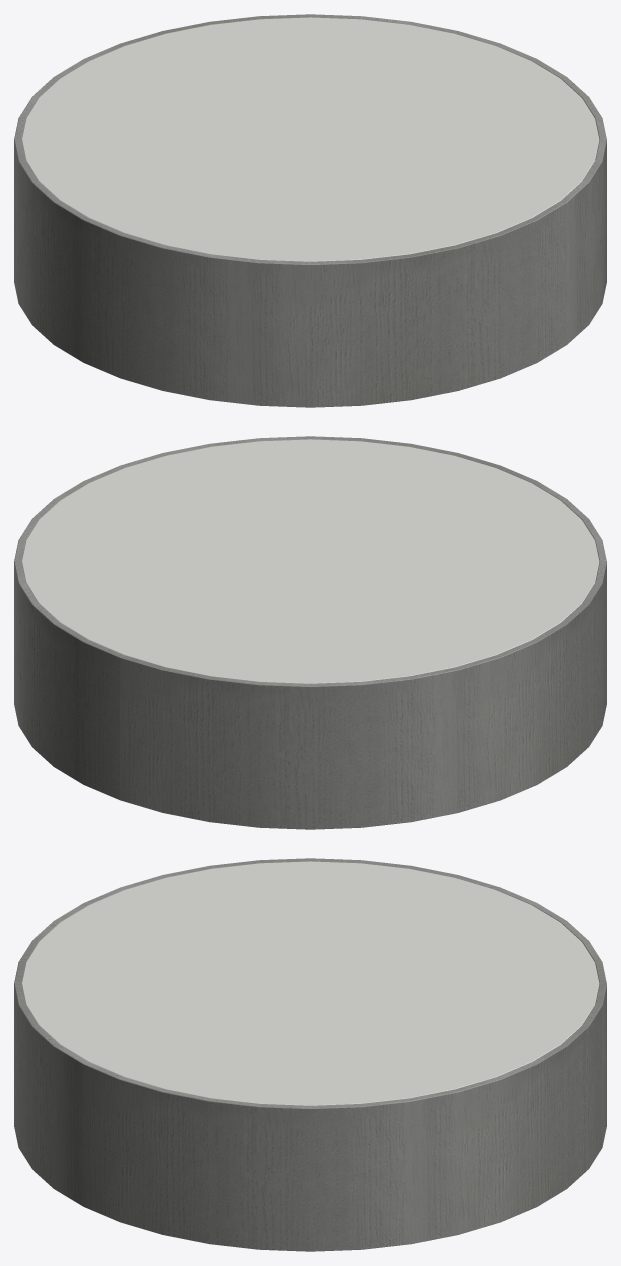
The model's file is coffee_table_bedroom.dae.
The picture shows the model from 3 angles, top to bottom: view 1: azimuth 30°, elevation 25°; view 2: azimuth 150°, elevation 25°; view 3: azimuth 270°, elevation 25°; orthographic projection.
Parts seen in each view (by area): view 1: Berkeley_Coffee_Table_Component_01, Berkeley_Coffee_Table_Component_02 (×2); view 2: Berkeley_Coffee_Table_Component_01, Berkeley_Coffee_Table_Component_02 (×2); view 3: Berkeley_Coffee_Table_Component_01, Berkeley_Coffee_Table_Component_02 (×2).
Boxes of the visible parts, x1,y1,x2,y2 form: Berkeley_Coffee_Table_Component_01: [21, 17, 599, 261]; Berkeley_Coffee_Table_Component_02 (×2): [14, 14, 606, 407]; Berkeley_Coffee_Table_Component_01: [21, 439, 599, 683]; Berkeley_Coffee_Table_Component_02 (×2): [14, 436, 606, 829]; Berkeley_Coffee_Table_Component_01: [21, 861, 599, 1105]; Berkeley_Coffee_Table_Component_02 (×2): [14, 858, 606, 1251].
Size of the model in its own units: 43 by 43 by 11.46.
4 materials, 2 textured.
